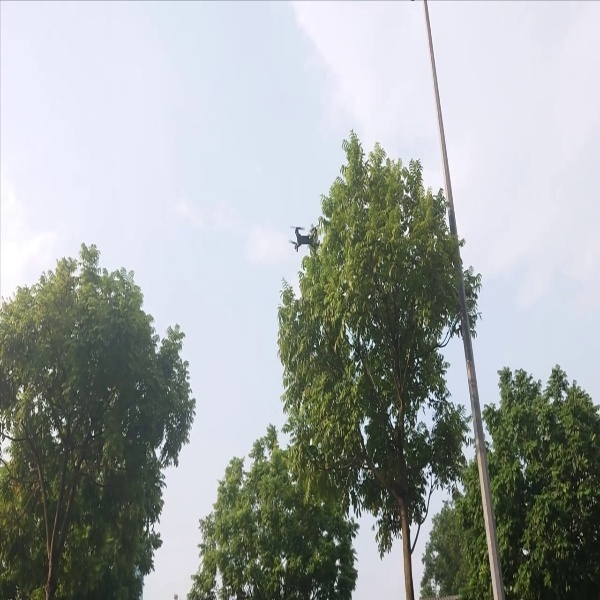drone: (285, 217, 335, 258)
